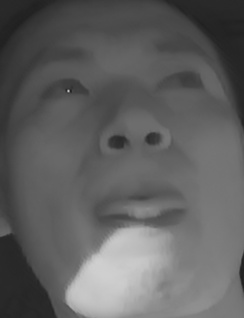eye: (40, 74, 98, 105), (158, 65, 206, 98)
mouth: (85, 174, 202, 237)
